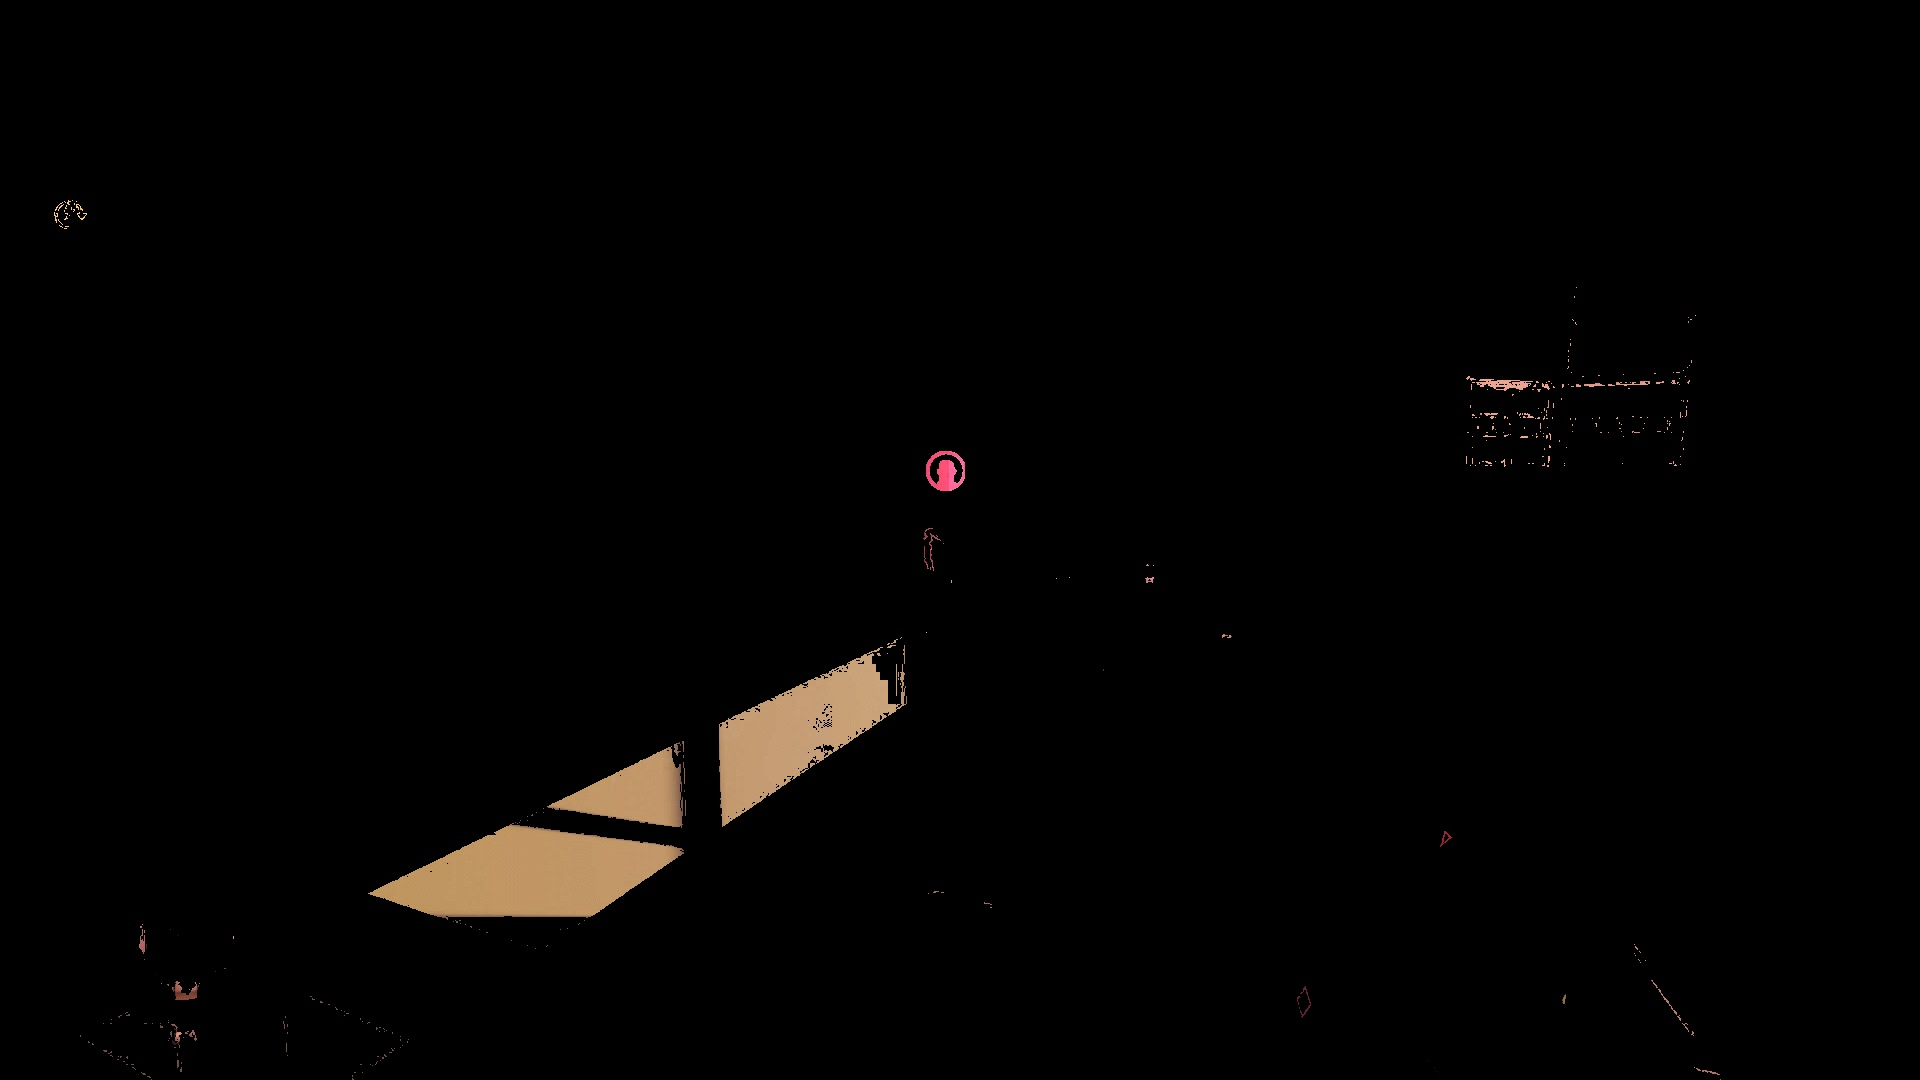widowmaker: (923, 527, 935, 572)
